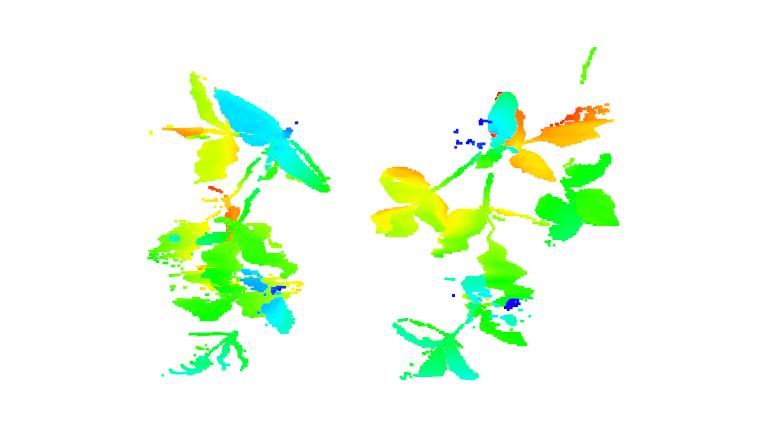mungbean: (369, 88, 625, 278), (151, 67, 332, 278), (163, 260, 312, 378), (395, 276, 536, 382)
